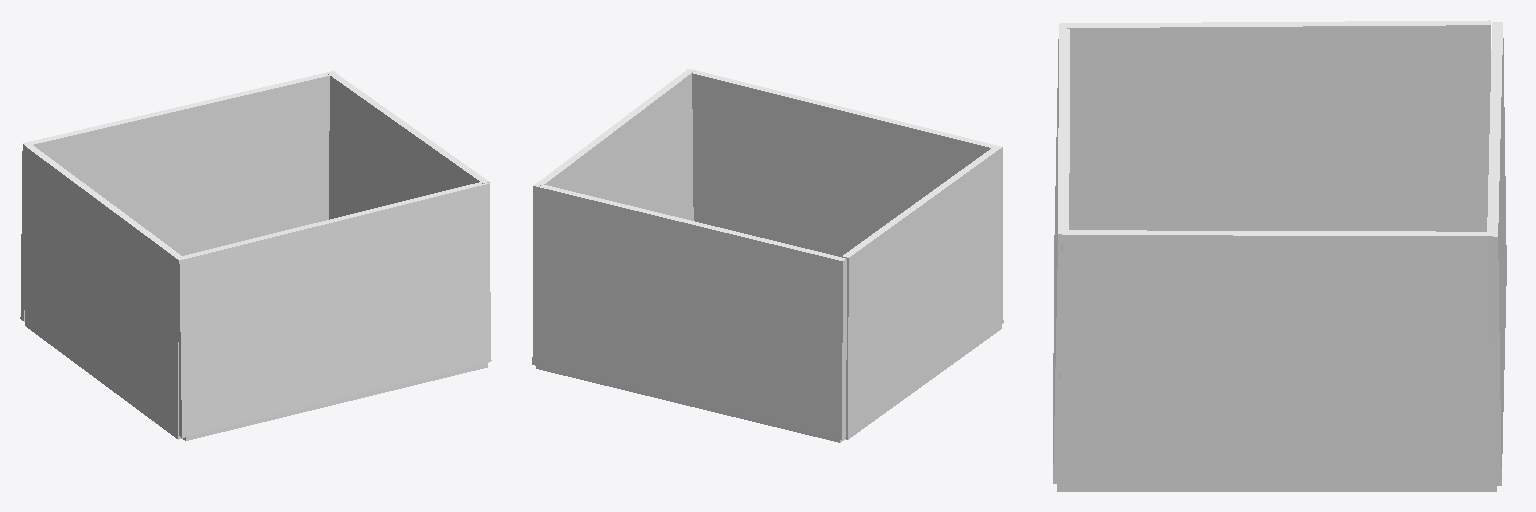
robot.urdf — cube.urdf:
<?xml version="0.0" ?>
<robot name="cube.urdf">
  <link concave="yes" name="baseLink">
    <inertial>
      <origin rpy="0 0 0" xyz="0 0 0"/>
       <mass value=".0"/>
       <inertia ixx="0" ixy="0" ixz="0" iyy="0" iyz="0" izz="0"/>
    </inertial>
    <visual>
      <origin rpy="1.5707963 0 0" xyz="0 0 0"/>
      <geometry>
        <mesh filename="EmptyRoom.obj" scale="1 1 1"/>
      </geometry>
       <material name="white">
        <color rgba="1 1 1 1"/>
      </material>
    </visual>
    <collision concave="yes">
      <origin rpy="1.5707963 0 0" xyz="0 0 0"/>
     <geometry>
        <mesh filename="EmptyRoom.obj" scale="1 1 1"/>
      </geometry>
    </collision>
  </link>
</robot>

--- Facts derived from the render (not from the file) ---
Views: 3 orthographic renders of the robot side by side, from view 1: azimuth 30°, elevation 25°; view 2: azimuth 150°, elevation 25°; view 3: azimuth 270°, elevation 25°.
Model cube.urdf with 1 links and 0 joints (none), rooted at baseLink, posed all joints at 0.
Links seen in each view (by area): view 1: baseLink; view 2: baseLink; view 3: baseLink.
Boxes of the visible links, x1,y1,x2,y2 form: baseLink: (20,71,491,440); baseLink: (532,69,1003,442); baseLink: (1053,20,1506,491).
Size in the robot's own frame: 7.91 by 7.08 by 4.45 metres.
Meshes: 1 distinct files referenced, 1 mesh visuals loaded (1 OBJ).